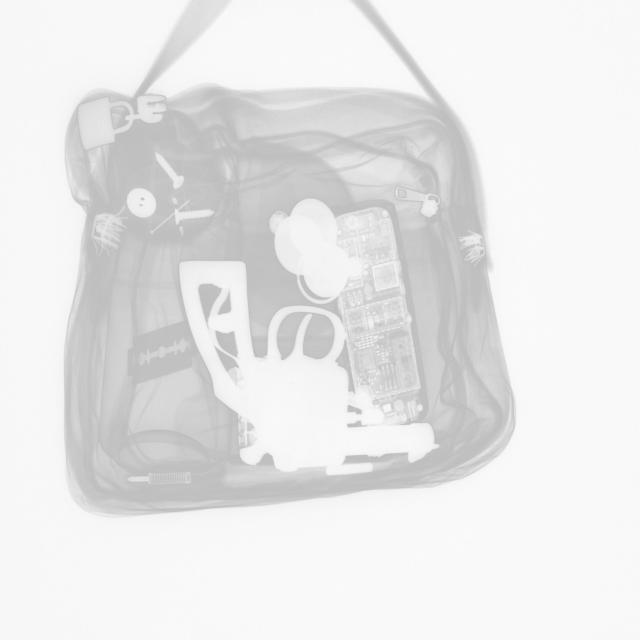pistol: (178, 260, 434, 474)
